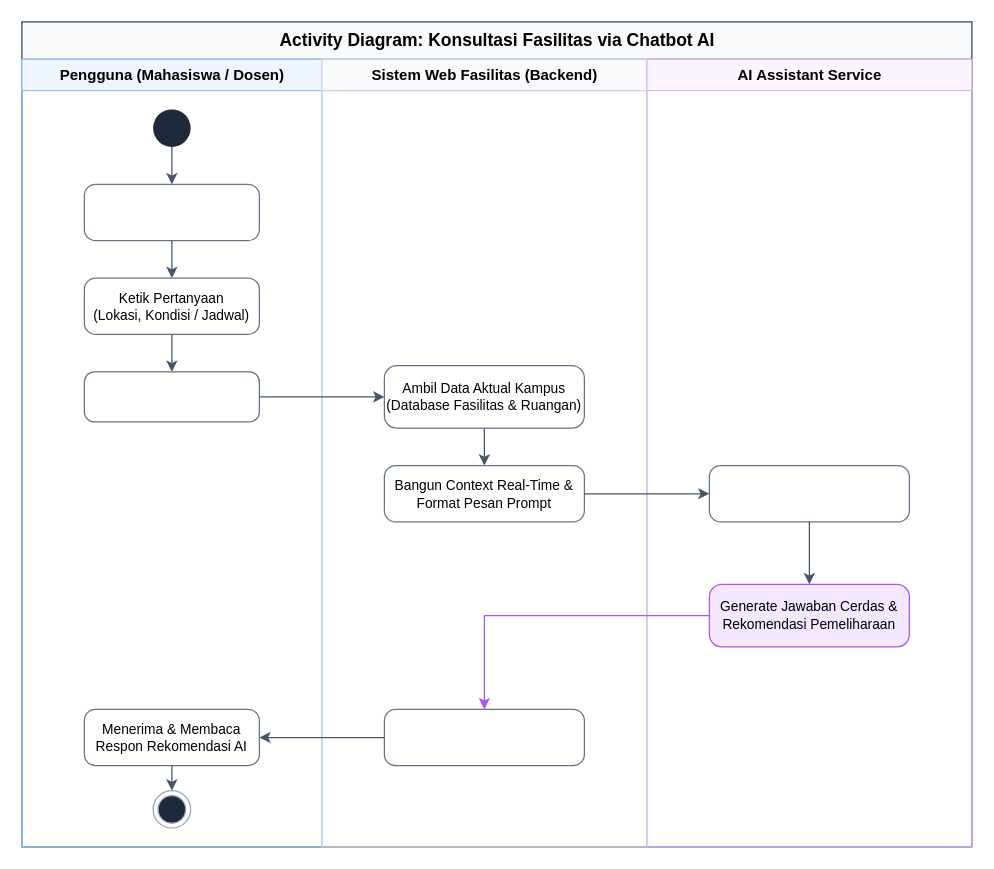
The diagram is 994 pixels wide and 869 high, and some of its shapes have lost their labels. The centre of each missing label's shape, as x and y in pixels:
"Analisis Pertanyaan (Natural Language Processing)" goes at (x=808, y=493).
"Format & Tampilkan Balasan ke Chat Bubble Pengguna" goes at (x=483, y=737).
"Klik Tombol Kirim / Enter" goes at (x=171, y=396).
"Klik Widget Chatbot AI di Pojok Layar" goes at (x=171, y=212).
